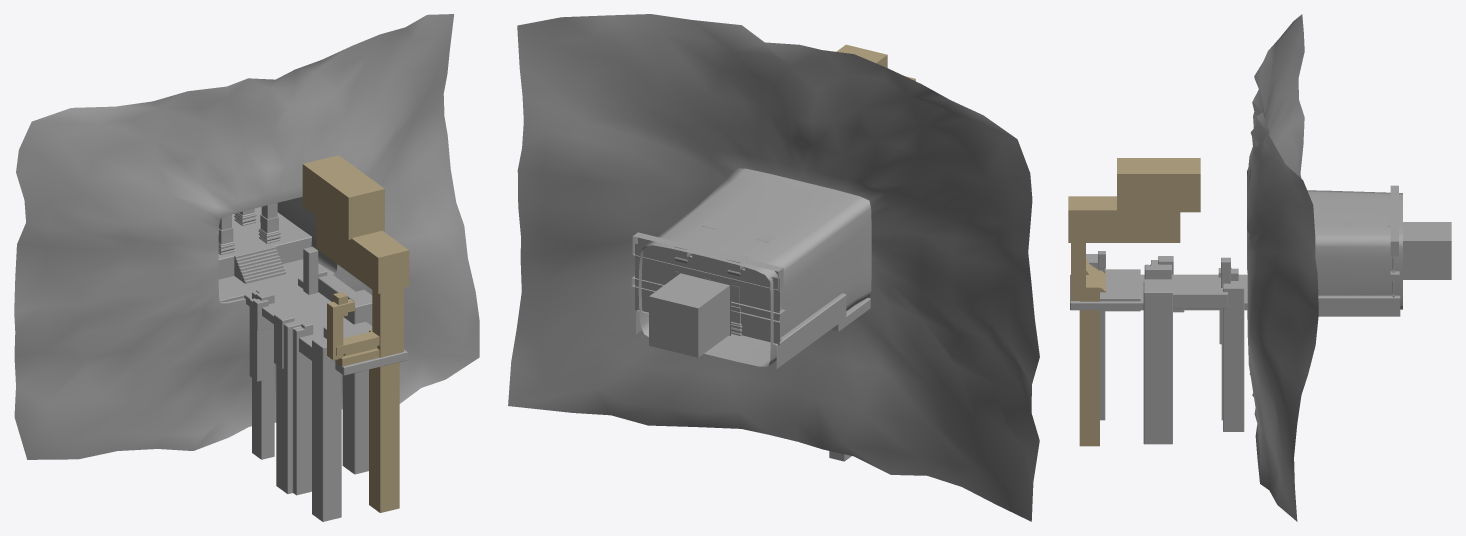
File: ruinsTest.fbx
The picture shows the model from 3 angles, left to right: view 1: azimuth 30°, elevation 25°; view 2: azimuth 150°, elevation 25°; view 3: azimuth 270°, elevation 25°; orthographic projection. The views are drawn at different scales.
Visible parts, largest first — view 1: CliffFace1, Bridge43, Bridge22, Bridge, Bridge3, BridgeFloor, Bridge21, Bridge2, Floor, Bridge1, Bridge20, Stairs (+9 smaller); view 2: CliffFace1, pCube53, pCube17, Floor, pCube52, Big_Column2; view 3: CliffFace1, Bridge2, Bridge22, Bridge21, Bridge3, Bridge41, pCube53, BridgeFloor, Floor, Bridge27, Bridge29, Bridge (+3 smaller).
Boxes of the visible parts, bbox=[...] form: CliffFace1: bbox=[14, 14, 479, 459]; Bridge43: bbox=[276, 313, 313, 495]; Bridge22: bbox=[302, 155, 384, 239]; Bridge: bbox=[312, 337, 341, 521]; Bridge3: bbox=[369, 329, 399, 512]; BridgeFloor: bbox=[218, 259, 407, 375]; Bridge21: bbox=[316, 216, 409, 293]; Bridge2: bbox=[342, 289, 372, 474]; Floor: bbox=[218, 207, 311, 279]; Bridge1: bbox=[252, 288, 274, 459]; Bridge20: bbox=[372, 288, 403, 357]; Stairs: bbox=[234, 245, 285, 283]; CliffFace1: bbox=[508, 14, 1039, 521]; pCube53: bbox=[649, 273, 729, 357]; pCube17: bbox=[635, 243, 779, 345]; Floor: bbox=[636, 293, 846, 368]; pCube52: bbox=[632, 232, 783, 290]; Big_Column2: bbox=[726, 253, 747, 335]; CliffFace1: bbox=[1247, 14, 1402, 521]; Bridge2: bbox=[1143, 281, 1172, 444]; Bridge22: bbox=[1117, 158, 1200, 212]; Bridge21: bbox=[1068, 196, 1180, 242]; Bridge3: bbox=[1079, 279, 1099, 446]; Bridge41: bbox=[1223, 283, 1244, 431]; pCube53: bbox=[1403, 222, 1451, 279]; BridgeFloor: bbox=[1070, 274, 1247, 310]; Floor: bbox=[1318, 295, 1400, 316]; Bridge27: bbox=[1100, 269, 1140, 311]; Bridge29: bbox=[1173, 288, 1227, 308]; Bridge: bbox=[1086, 254, 1105, 420].
Size of the model in its own units: 131 by 101 by 104.
